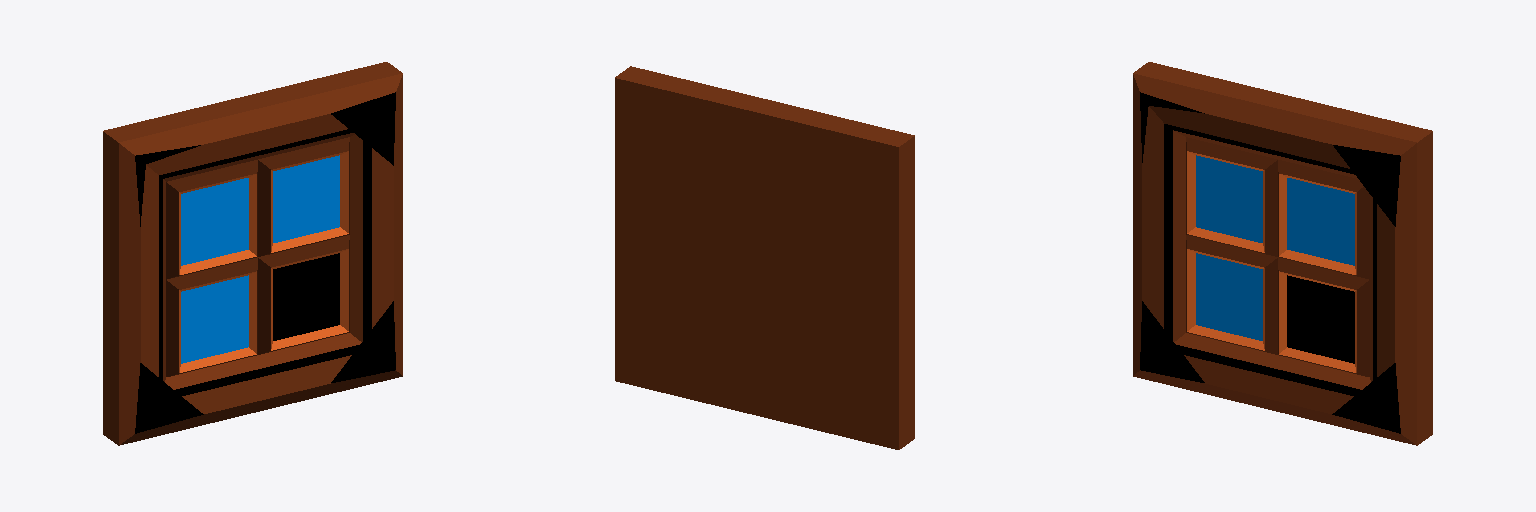
The model's file is window.obj.
3 views of the same model, side by side, from view 1: azimuth 30°, elevation 25°; view 2: azimuth 150°, elevation 25°; view 3: azimuth 330°, elevation 25° (orthographic).
Parts seen in each view (by area): view 1: pCube1; view 2: pCube1; view 3: pCube1.
Boxes of the visible parts, x1,y1,x2,y2 form: pCube1: [103, 62, 402, 445]; pCube1: [615, 66, 914, 449]; pCube1: [1133, 62, 1432, 445].
Bounding box in the file's own units: 11.41 × 11.62 × 1.55.